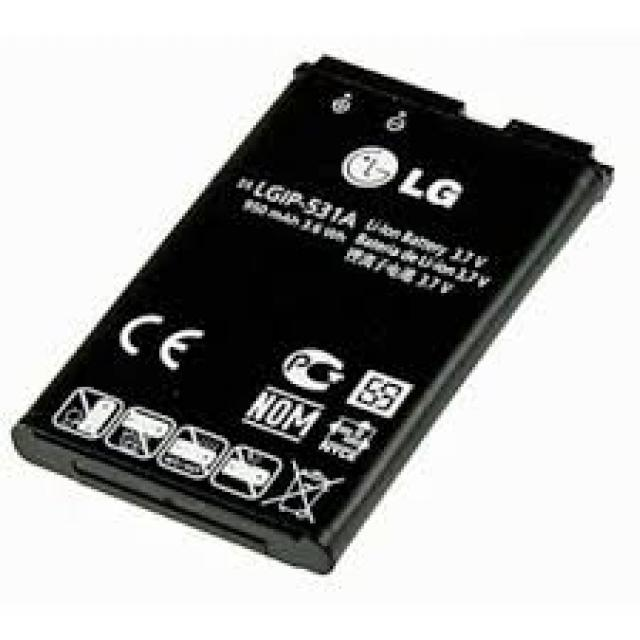battery: (13, 50, 612, 574)
